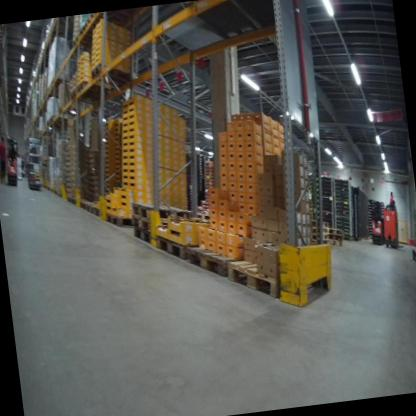pallet: (226, 252, 313, 308), (185, 236, 249, 284), (130, 192, 194, 230), (88, 56, 132, 94), (155, 229, 197, 265), (103, 207, 147, 231), (77, 76, 114, 104), (70, 25, 105, 54), (131, 224, 156, 251), (76, 20, 103, 44), (132, 212, 155, 235), (308, 217, 330, 232), (307, 229, 331, 240), (309, 225, 331, 237), (81, 201, 98, 214), (329, 229, 343, 243), (329, 223, 344, 236), (92, 205, 105, 220), (75, 198, 88, 212), (331, 236, 344, 248), (319, 236, 331, 247)
pallet_truck: (376, 189, 407, 259), (0, 125, 24, 192), (364, 198, 392, 249)
